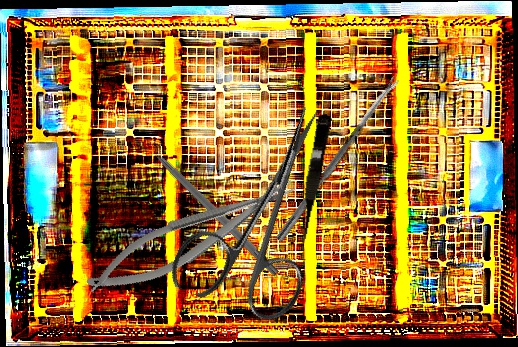Hook Surgical: (137, 133, 281, 278)
Iris Scissors: (164, 83, 368, 333)
Micro Scissor: (292, 112, 333, 247)
Needle Holder: (78, 169, 306, 306)
Surgical Spoon: (275, 75, 401, 244)
